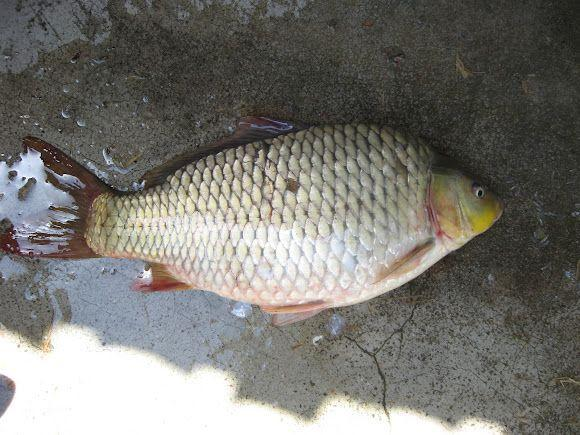Indian Carp: (10, 114, 508, 330)
